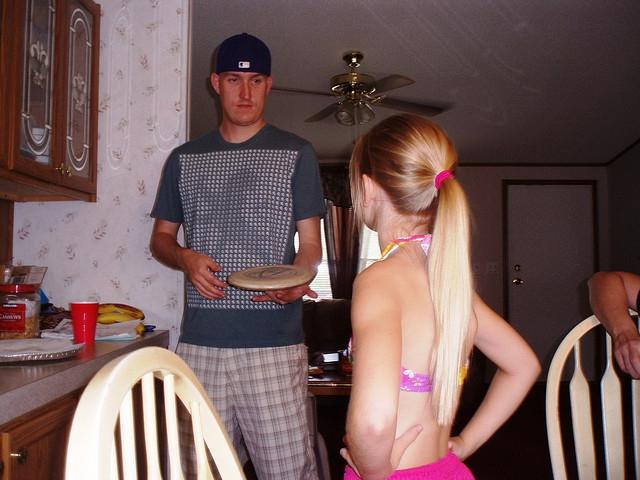banana: (96, 312, 146, 334), (98, 303, 145, 321)
